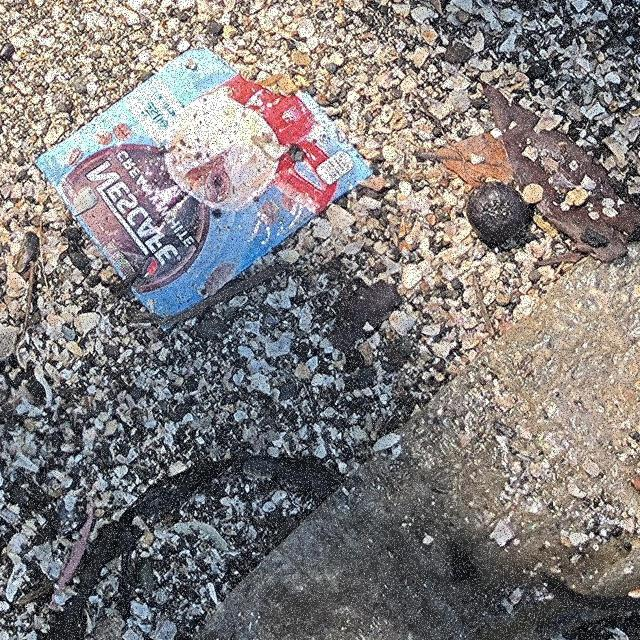plastic_waste: (33, 47, 376, 321)
